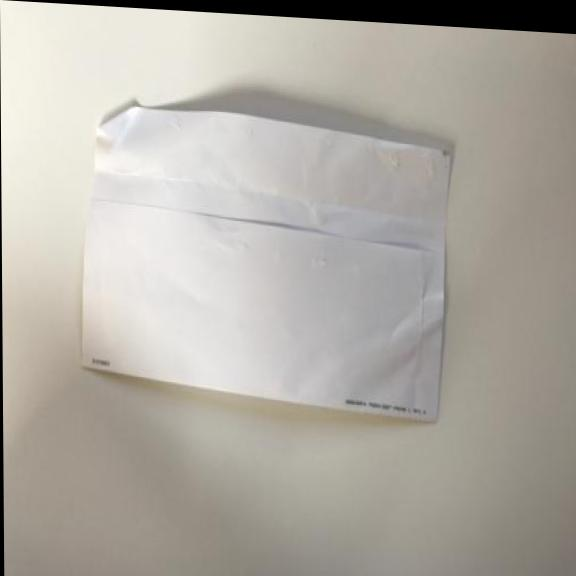Kertas: (73, 77, 458, 435)
